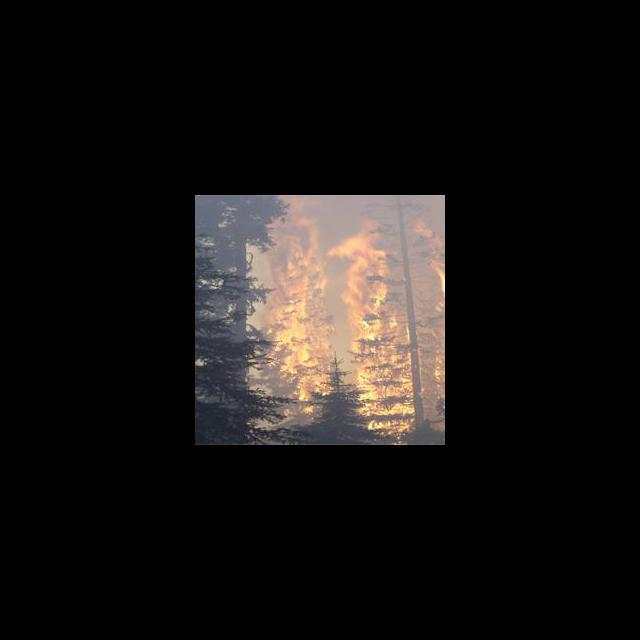Fire: (264, 198, 444, 444)
